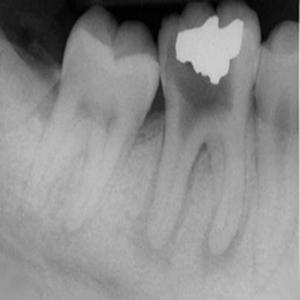tooth: (152, 2, 264, 256), (32, 7, 160, 228), (258, 18, 300, 268), (0, 19, 58, 134)
